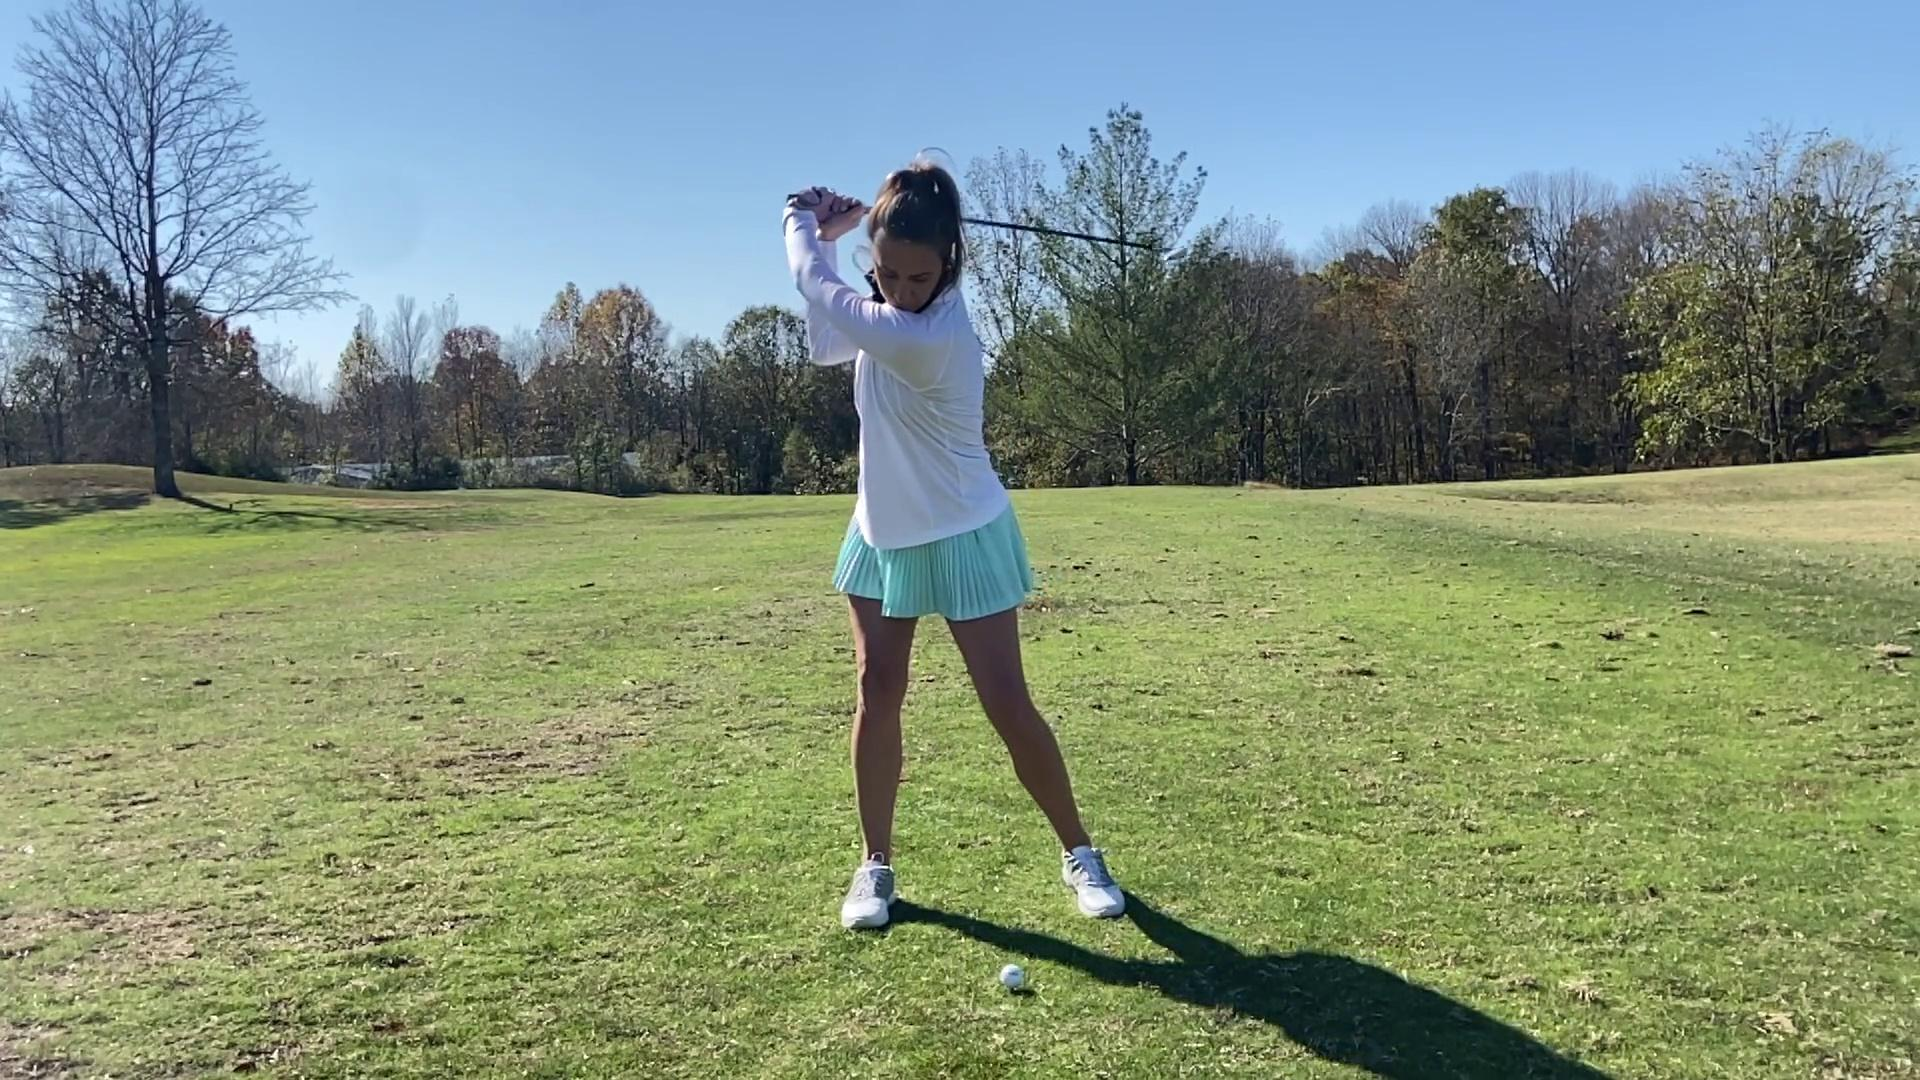ClubHead: (1143, 232, 1199, 273)
GolfBall: (998, 963, 1025, 992)
